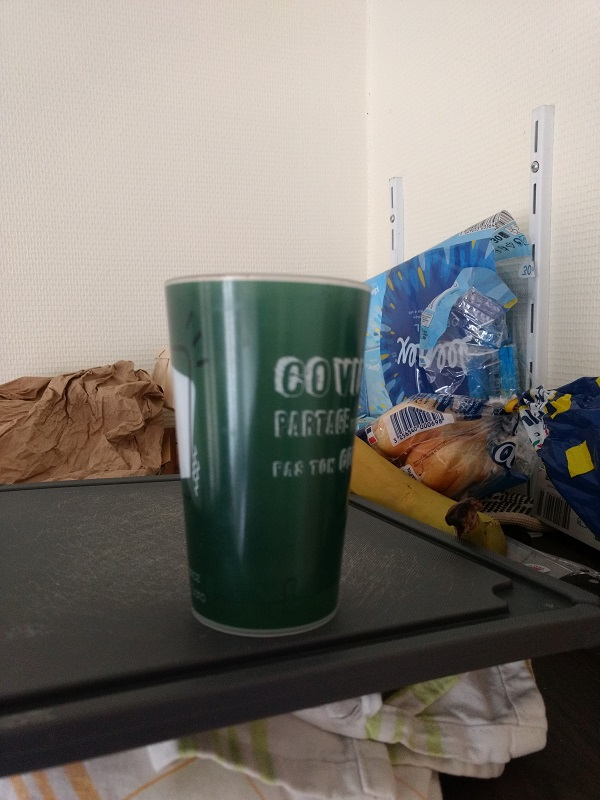ecocup: (163, 271, 374, 640)
